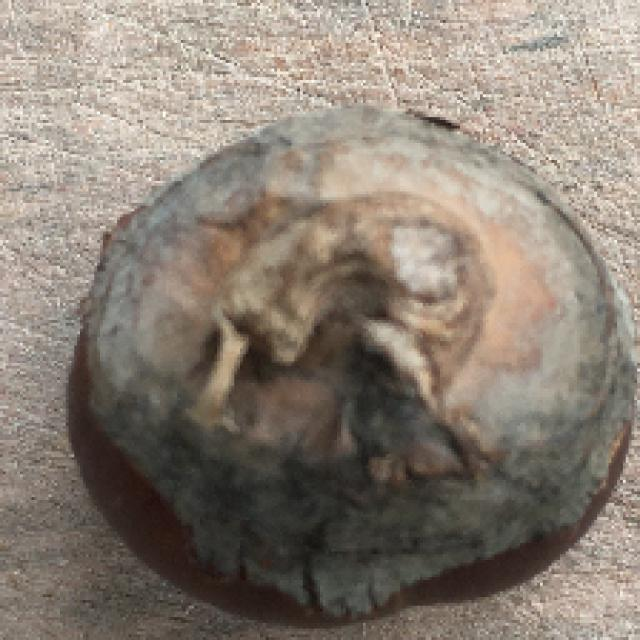damagedHazelnut: (66, 113, 630, 622)
